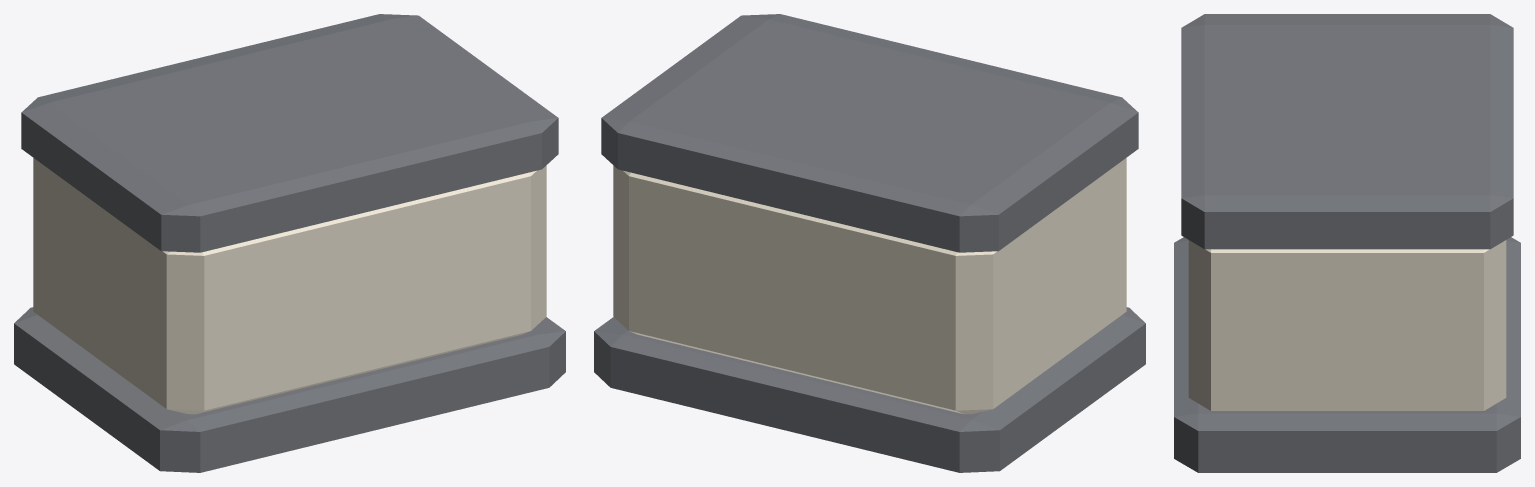
Rendered from b14_stackable_attached_lid_delivery_tote.glb.
3 renders of one model, left to right at view 1: azimuth 30°, elevation 25°; view 2: azimuth 150°, elevation 25°; view 3: azimuth 270°, elevation 25°, orthographic. The views are drawn at different scales.
Visible parts, largest first — view 1: b14_stackable_attached_lid_delivery_tote; view 2: b14_stackable_attached_lid_delivery_tote; view 3: b14_stackable_attached_lid_delivery_tote.
Boxes of the visible parts, x1,y1,x2,y2 form: b14_stackable_attached_lid_delivery_tote: (14, 14, 565, 472); b14_stackable_attached_lid_delivery_tote: (594, 14, 1145, 472); b14_stackable_attached_lid_delivery_tote: (1174, 14, 1520, 472).
Bounding box in the file's own units: 0.66 × 0.403 × 0.478.
